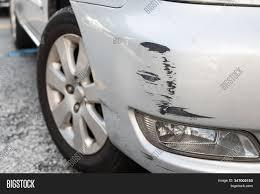front-bumper-dent: (69, 4, 259, 177)
